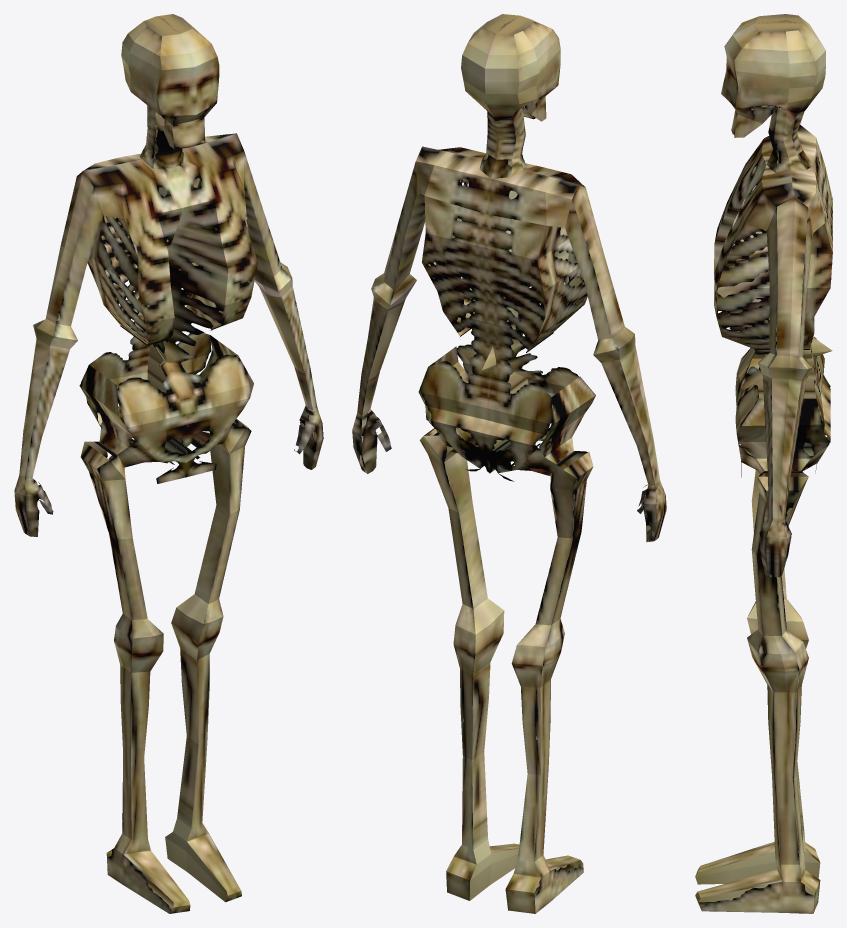
Rendered from Skeletor.fbx.
3 renders of one model, left to right at view 1: azimuth 30°, elevation 25°; view 2: azimuth 150°, elevation 25°; view 3: azimuth 270°, elevation 25°, orthographic. The views are drawn at different scales.
Parts seen in each view (by area): view 1: Cube; view 2: Cube; view 3: Cube.
Boxes of the visible parts, x1,y1,x2,y2 form: Cube: [14, 14, 323, 913]; Cube: [352, 14, 666, 913]; Cube: [695, 14, 832, 913].
Bounding box in the file's own units: 72.26 × 195 × 27.84.
